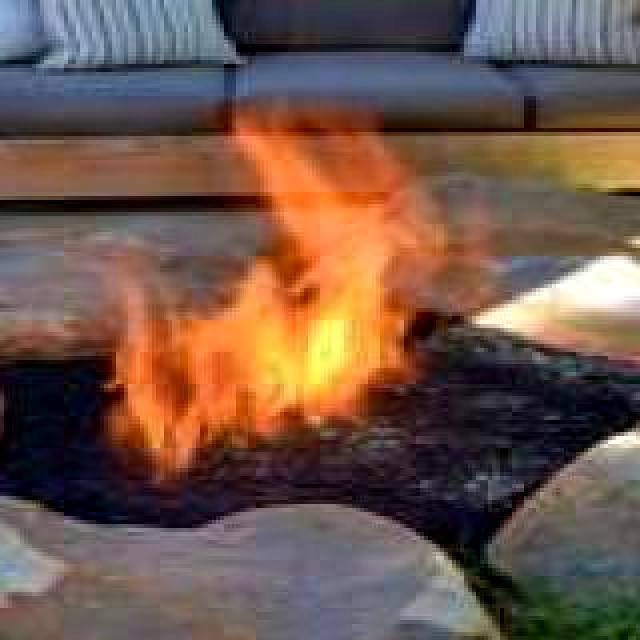fire: (88, 48, 460, 440)
